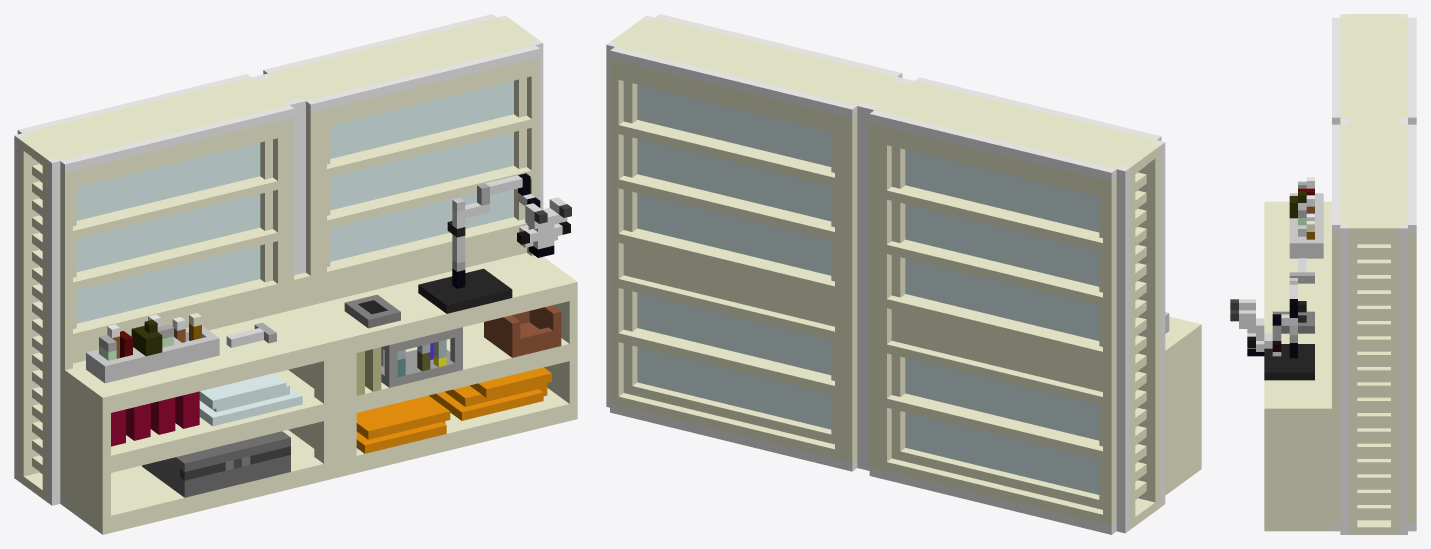
The model's file is Med Bay Wall 2.obj.
3 views of the same model, side by side, from view 1: azimuth 30°, elevation 25°; view 2: azimuth 150°, elevation 25°; view 3: azimuth 270°, elevation 25° (orthographic). The views are drawn at different scales.
Bounding box in the file's own units: 60 × 40 × 22.
1 material, 1 textured.
